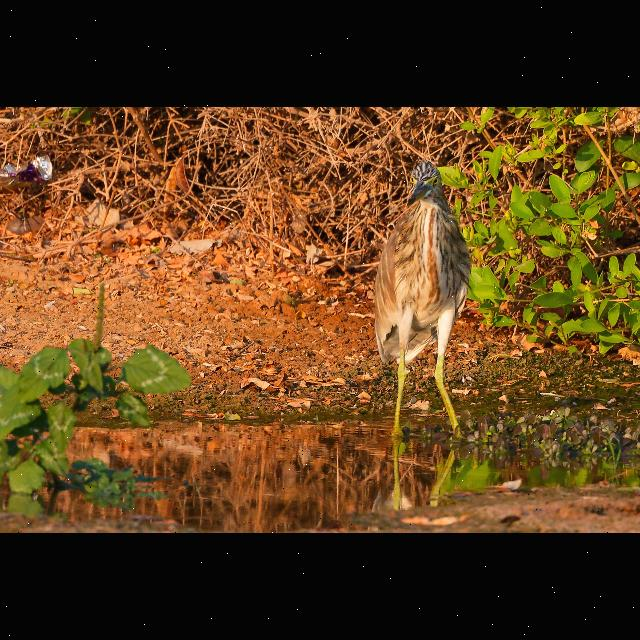heron: (368, 152, 477, 446)
